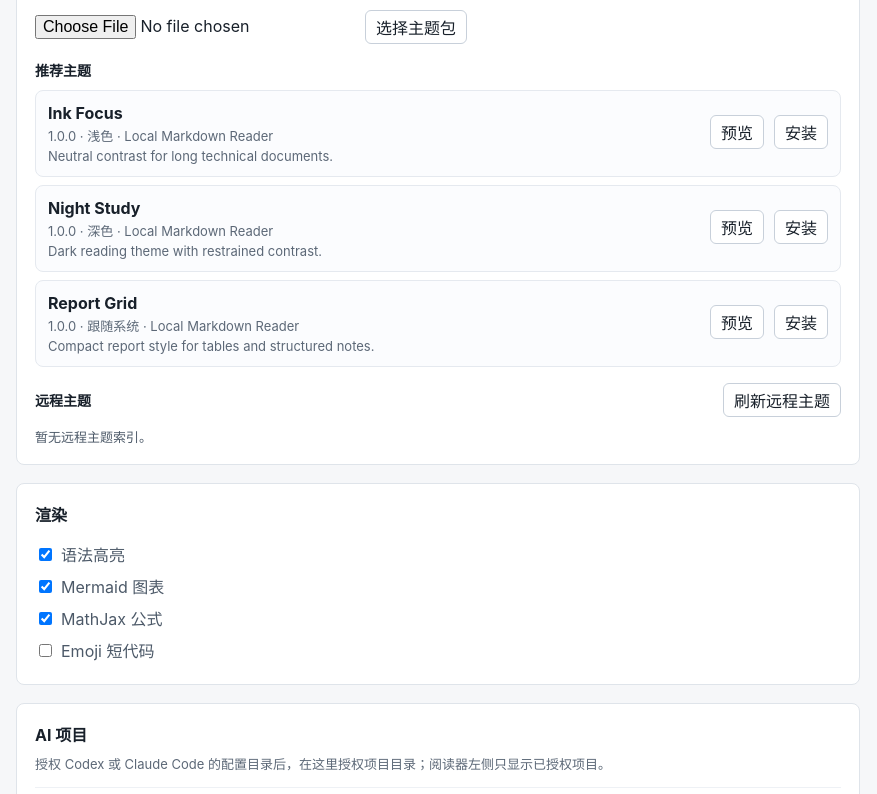
Test case: options App › refreshes the remote theme source and installs a remote theme package
(page scrolled)
Click the button "刷新远程主题": (782, 400) left=723, top=383, right=841, bottom=417
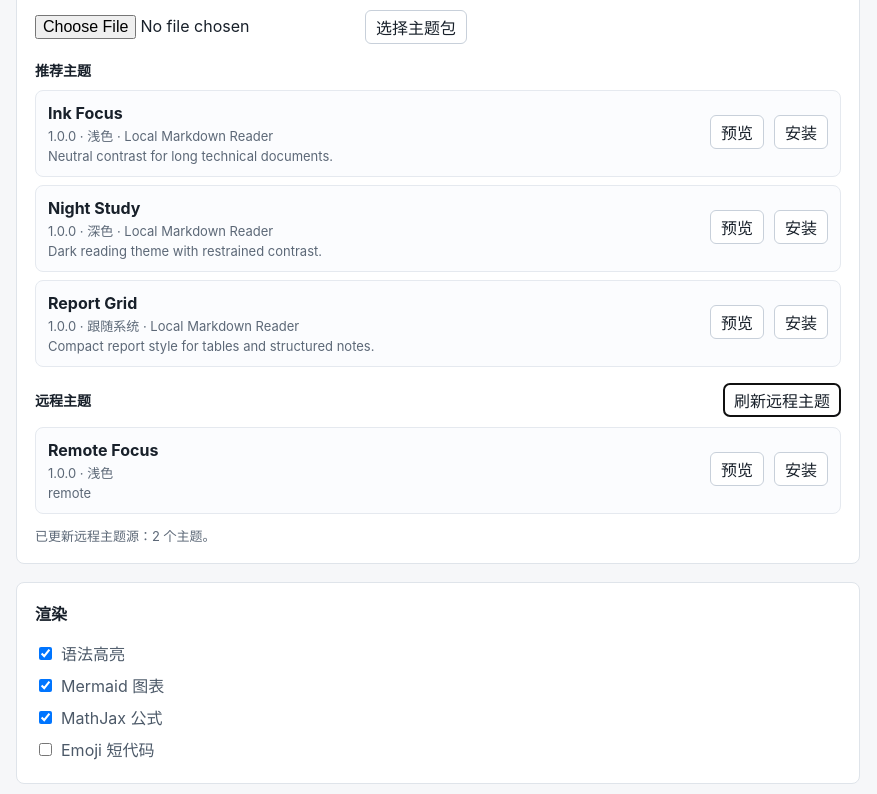
Check: the text "已更新远程主题源：2 个主题。" is shown, box left=35, top=528, right=216, bottom=544
Click the button "安装" in the row of "Remote Focus": (801, 469) left=774, top=452, right=828, bottom=486
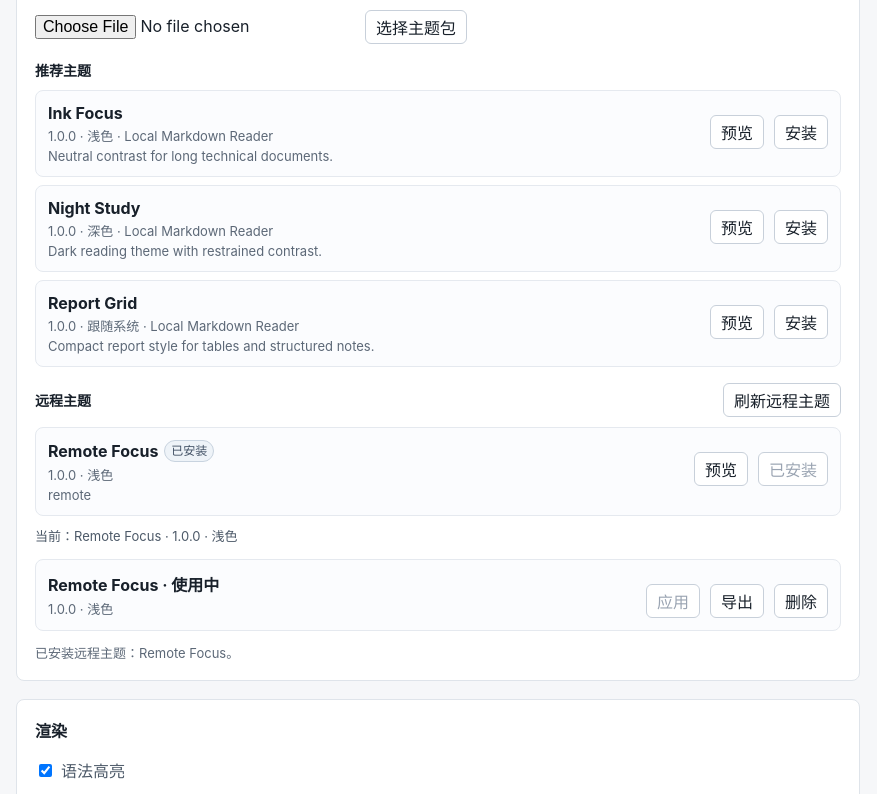
Check: the text "已安装远程主题：Remote Focus。" is shown, box left=35, top=645, right=239, bottom=661
